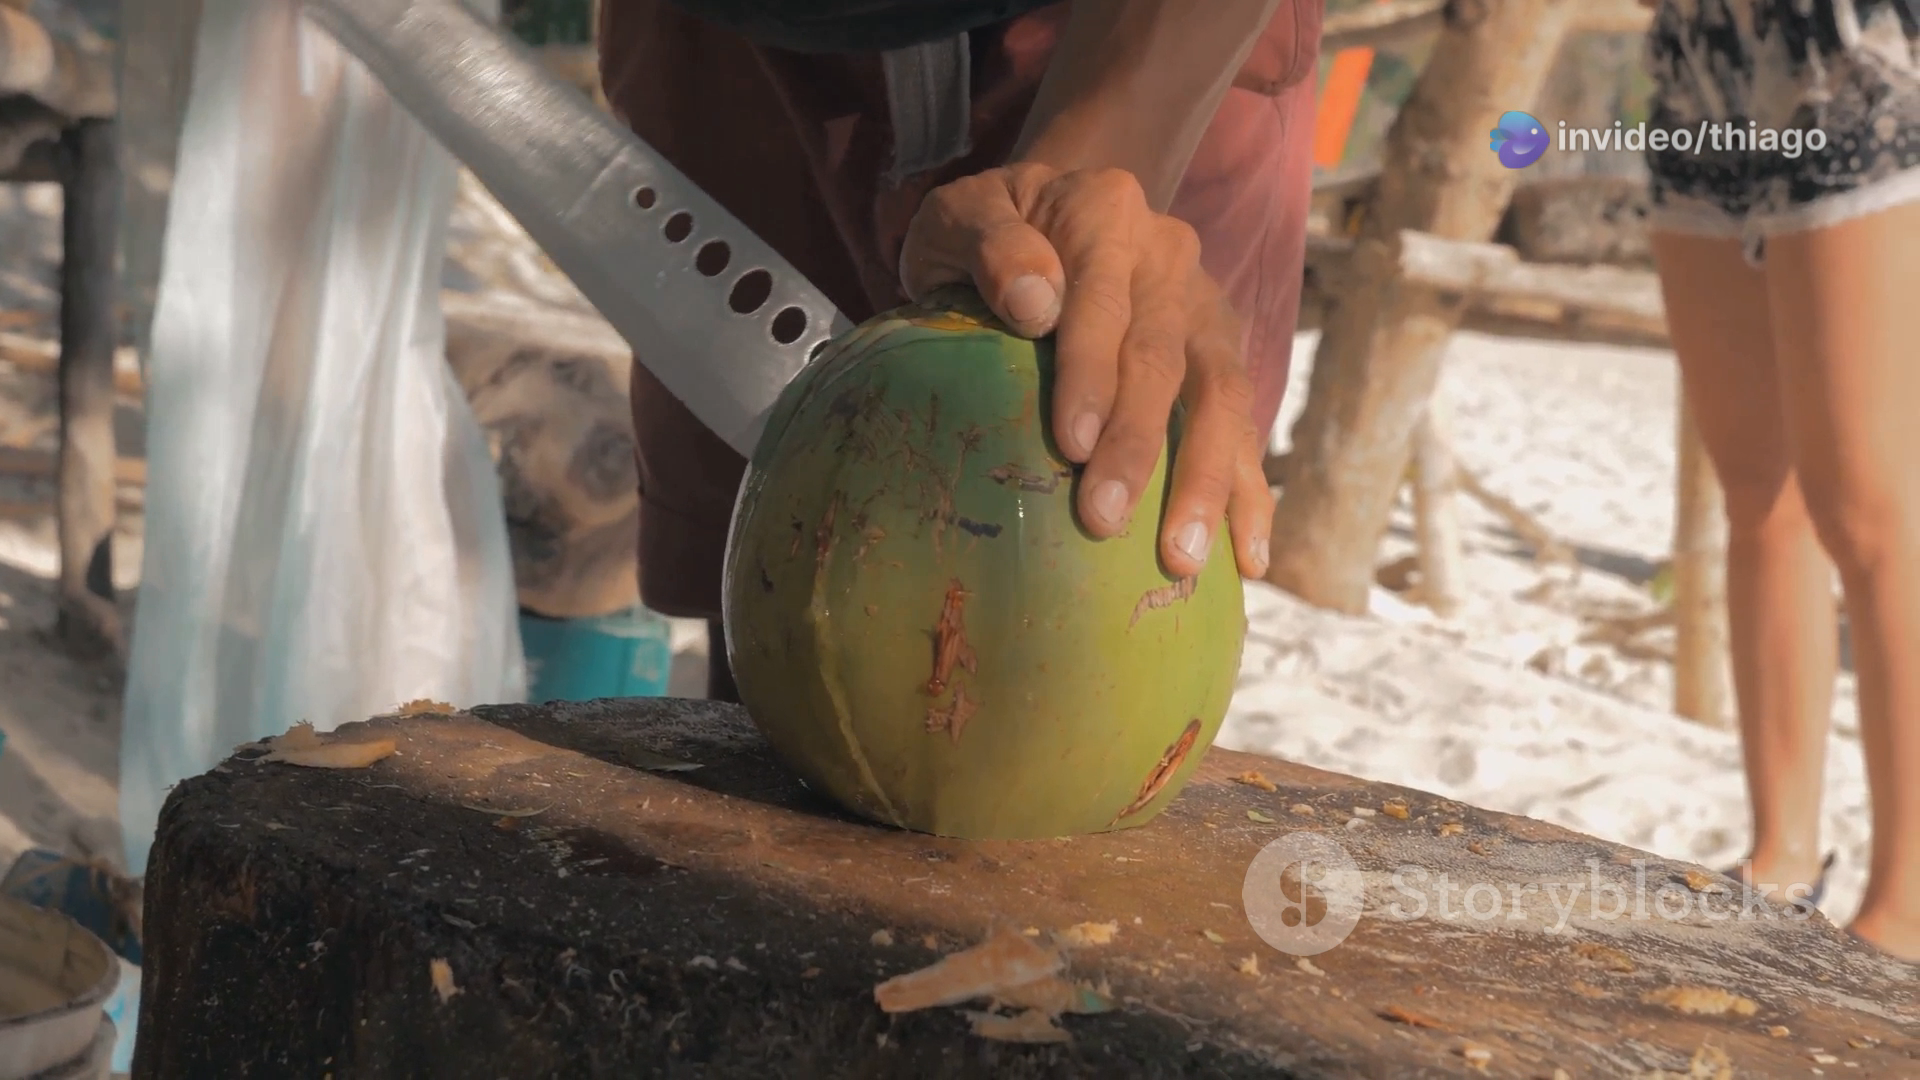cortante: (290, 0, 858, 467)
